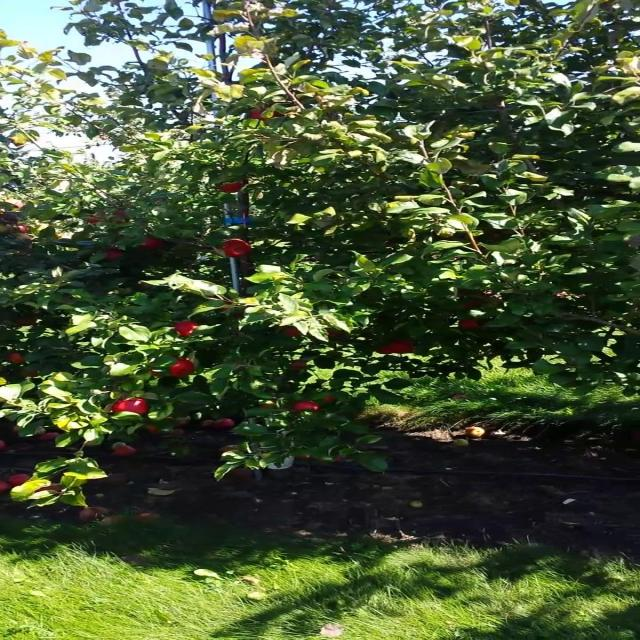apple: (156, 360, 199, 379), (170, 320, 204, 339), (220, 240, 254, 259), (248, 108, 283, 125), (113, 400, 149, 416), (291, 400, 322, 417), (390, 340, 420, 356), (220, 180, 249, 195), (13, 316, 41, 328), (141, 236, 165, 249), (461, 320, 485, 332), (6, 352, 28, 364), (106, 248, 126, 261), (376, 344, 395, 357), (326, 328, 348, 339), (291, 360, 309, 373), (284, 328, 304, 339), (6, 204, 28, 214), (84, 216, 105, 225), (319, 396, 340, 405), (6, 212, 21, 224), (20, 224, 32, 234), (28, 372, 41, 378), (113, 212, 128, 217)
